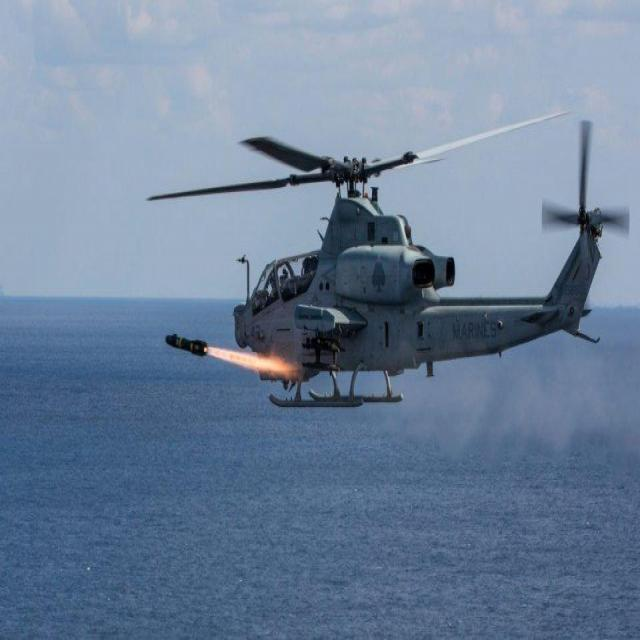MIL_HELO: (125, 88, 602, 416)
